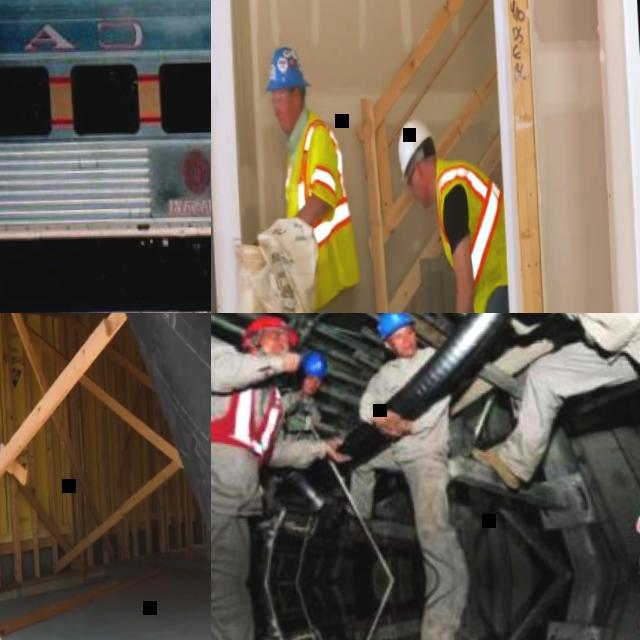Weapon: (214, 319, 496, 640), (374, 30, 566, 312), (236, 29, 367, 313)
objects: (254, 28, 340, 132), (369, 122, 469, 206), (242, 326, 326, 392), (368, 311, 456, 374)
